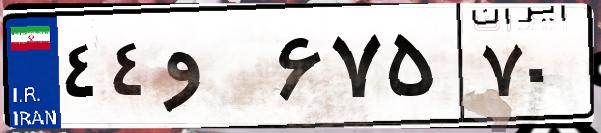0: (525, 38, 570, 115)
4: (57, 26, 110, 100), (110, 28, 158, 98)
5: (385, 28, 445, 110)
6: (270, 28, 330, 110)
7: (330, 28, 385, 110), (475, 38, 525, 113)
و: (158, 20, 270, 120)
